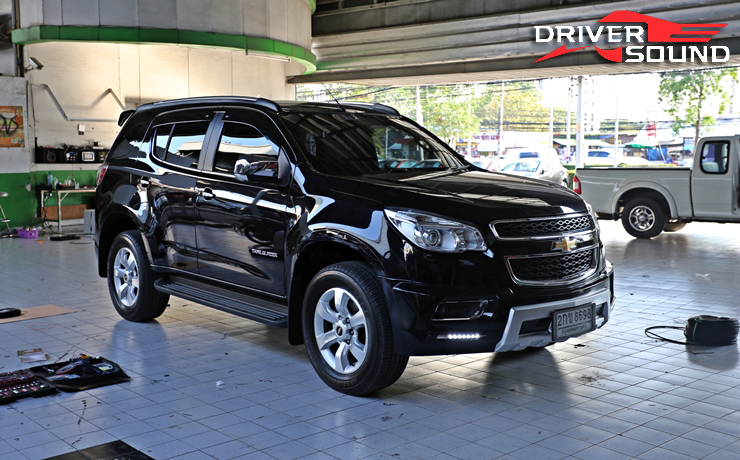pickup: (92, 96, 617, 396)
